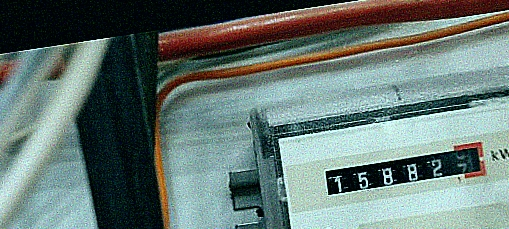1: (331, 173, 343, 192)
2: (429, 156, 444, 178)
5: (353, 169, 370, 190)
7: (454, 159, 467, 173)
8: (403, 160, 419, 182), (380, 164, 395, 186)
screen: (318, 138, 491, 203)
